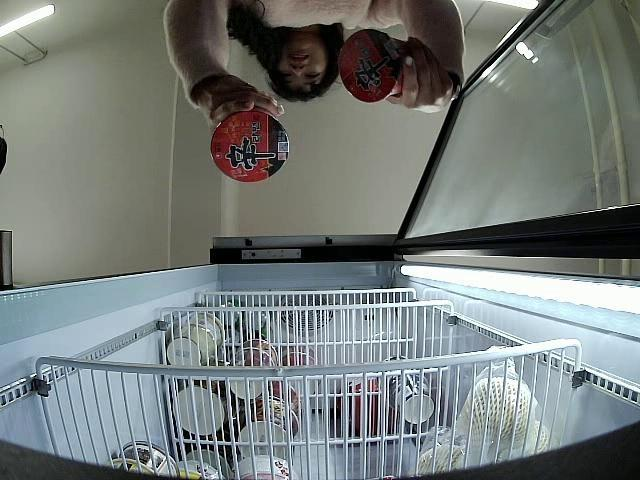02_shinRamen_S: (210, 106, 291, 184), (341, 29, 412, 104)
